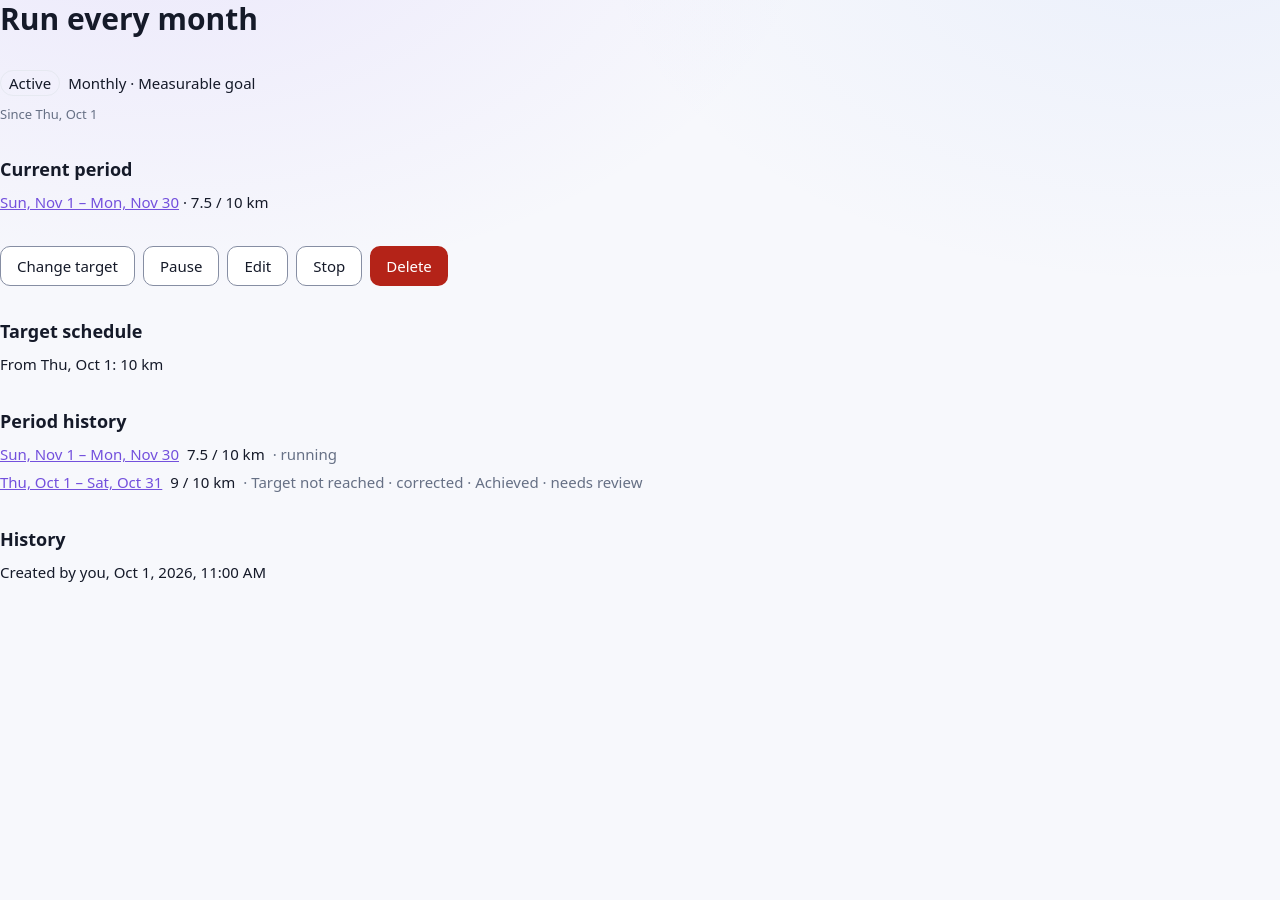
it: the series page › asks to confirm a current-period change that flips Target reached
Click the button "Change target" at (68, 266), box x1=0 y1=246 x2=135 y2=286
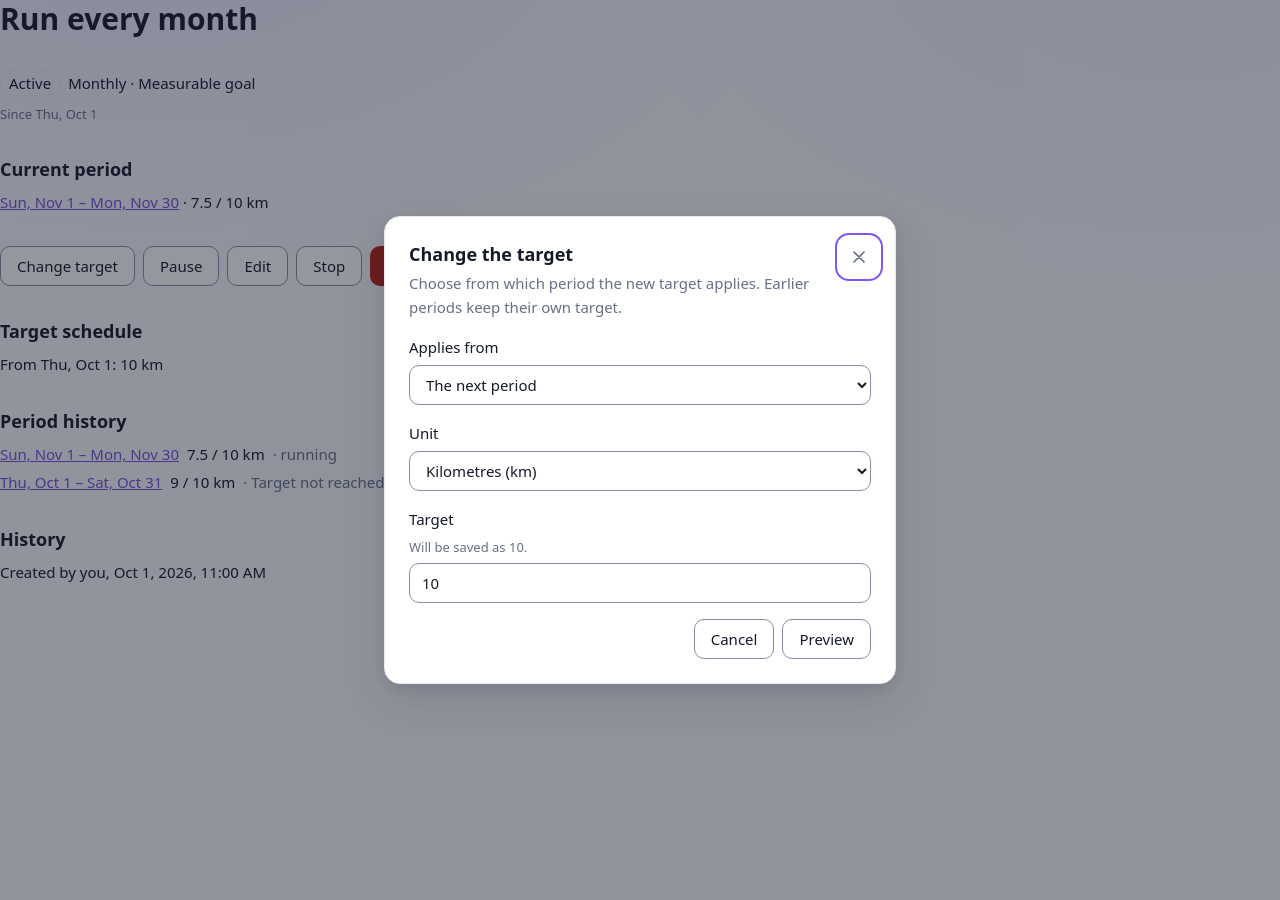
Select "The current period" in the dropdown labelled "Applies from" at (640, 385), box x1=409 y1=365 x2=871 y2=405
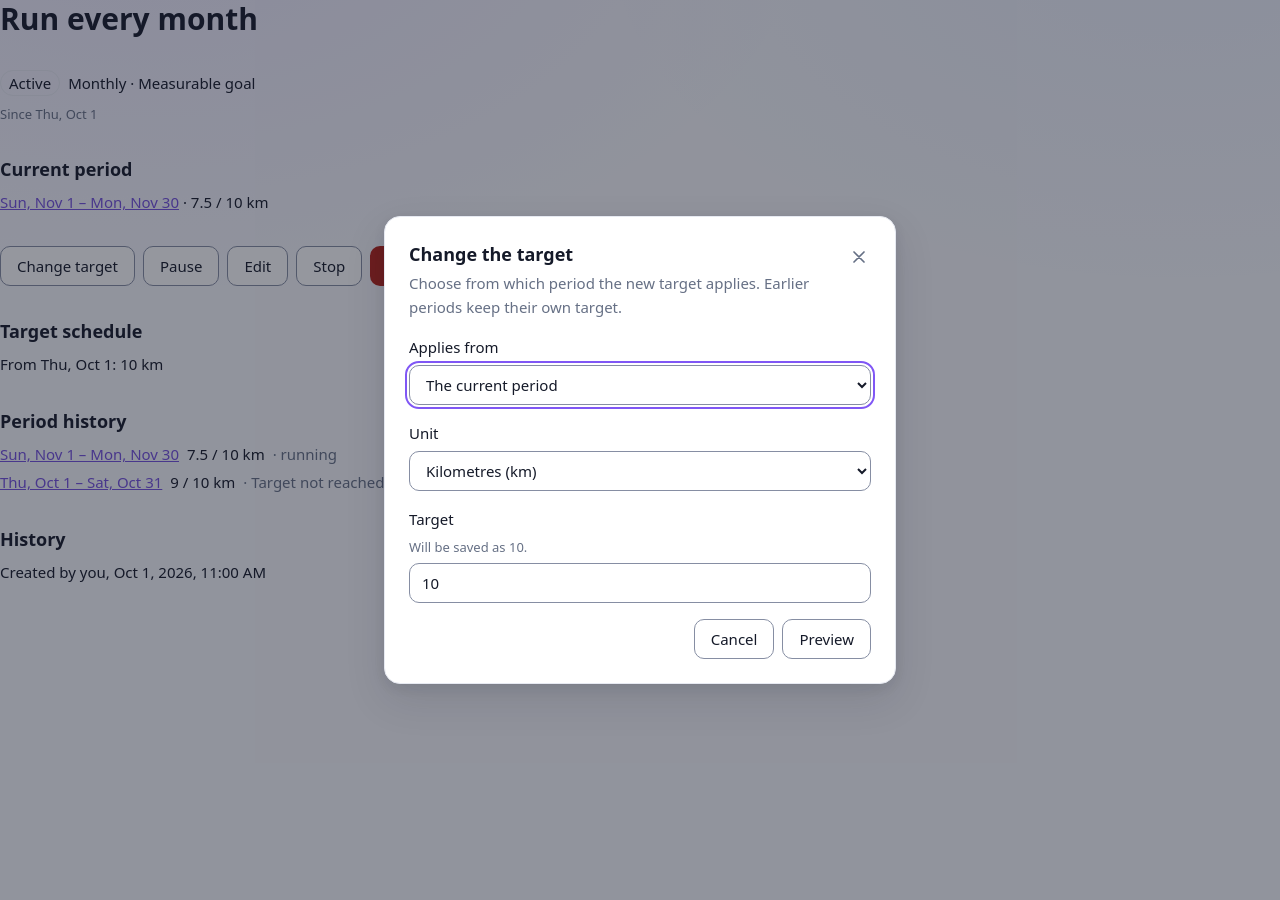
Clear the field with test id "goal-series-target-value" at (640, 583), box x1=409 y1=563 x2=871 y2=603
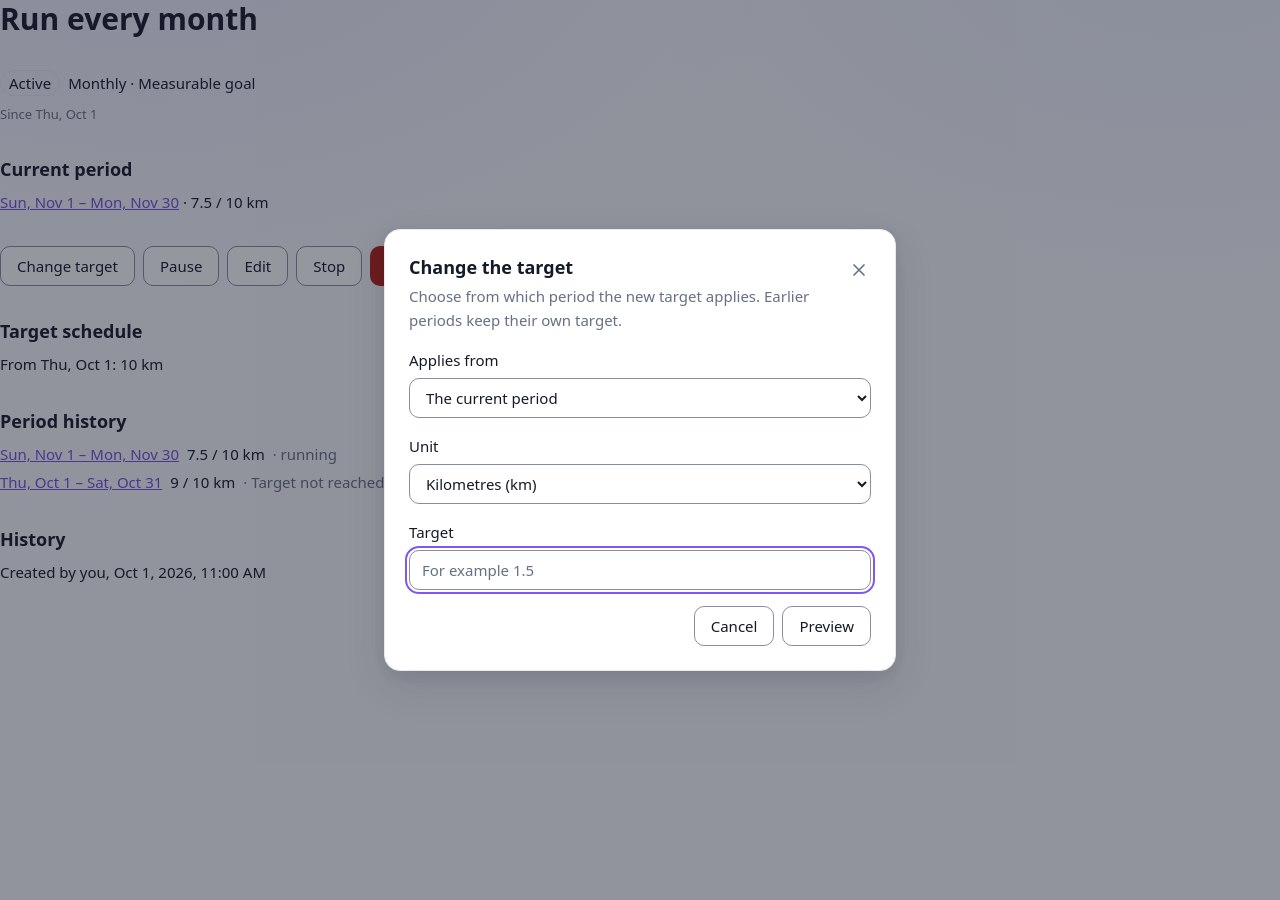
Type "7" into the field with test id "goal-series-target-value" at (640, 570), box x1=409 y1=550 x2=871 y2=590
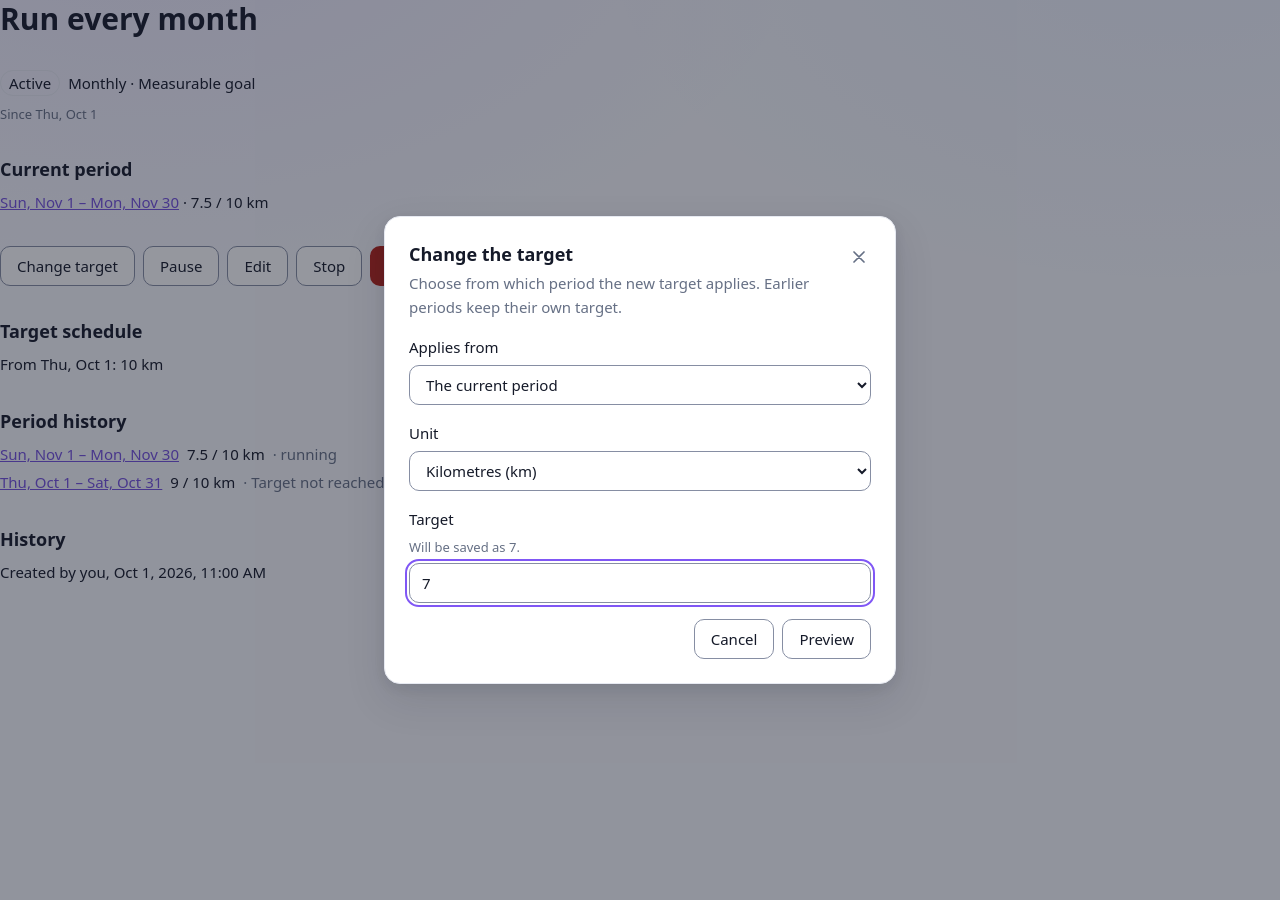
Click the button "Preview" at (827, 639), box x1=782 y1=619 x2=871 y2=659
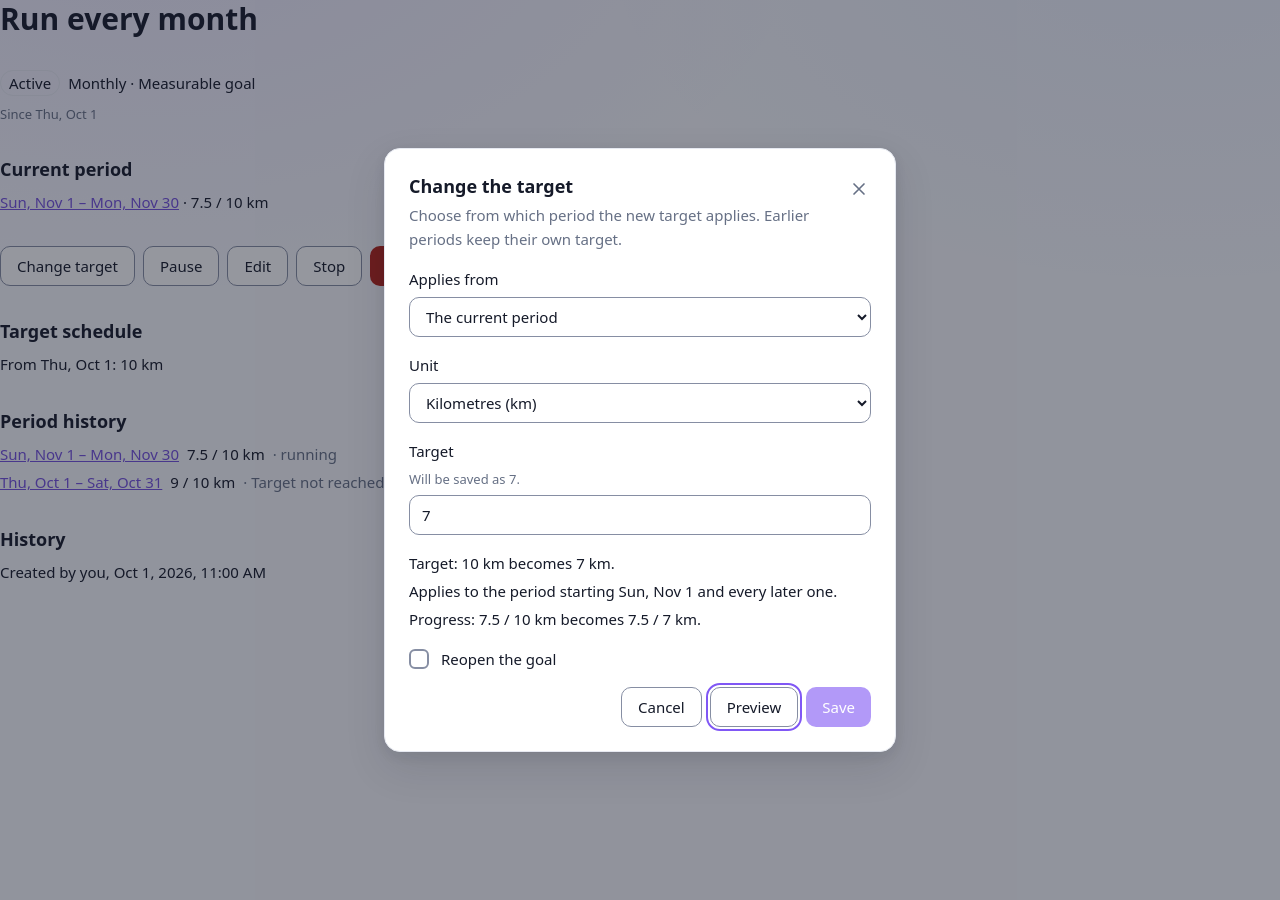
Check: the element with test id "goal-series-target-impact" shows "7.5 / 10 km", box x1=409 y1=609 x2=701 y2=629
Check: the button with test id "goal-series-target-save" is disabled, box x1=806 y1=687 x2=871 y2=727
Click the checkbox with test id "goal-series-confirm-status" at (419, 659), box x1=409 y1=649 x2=429 y2=669
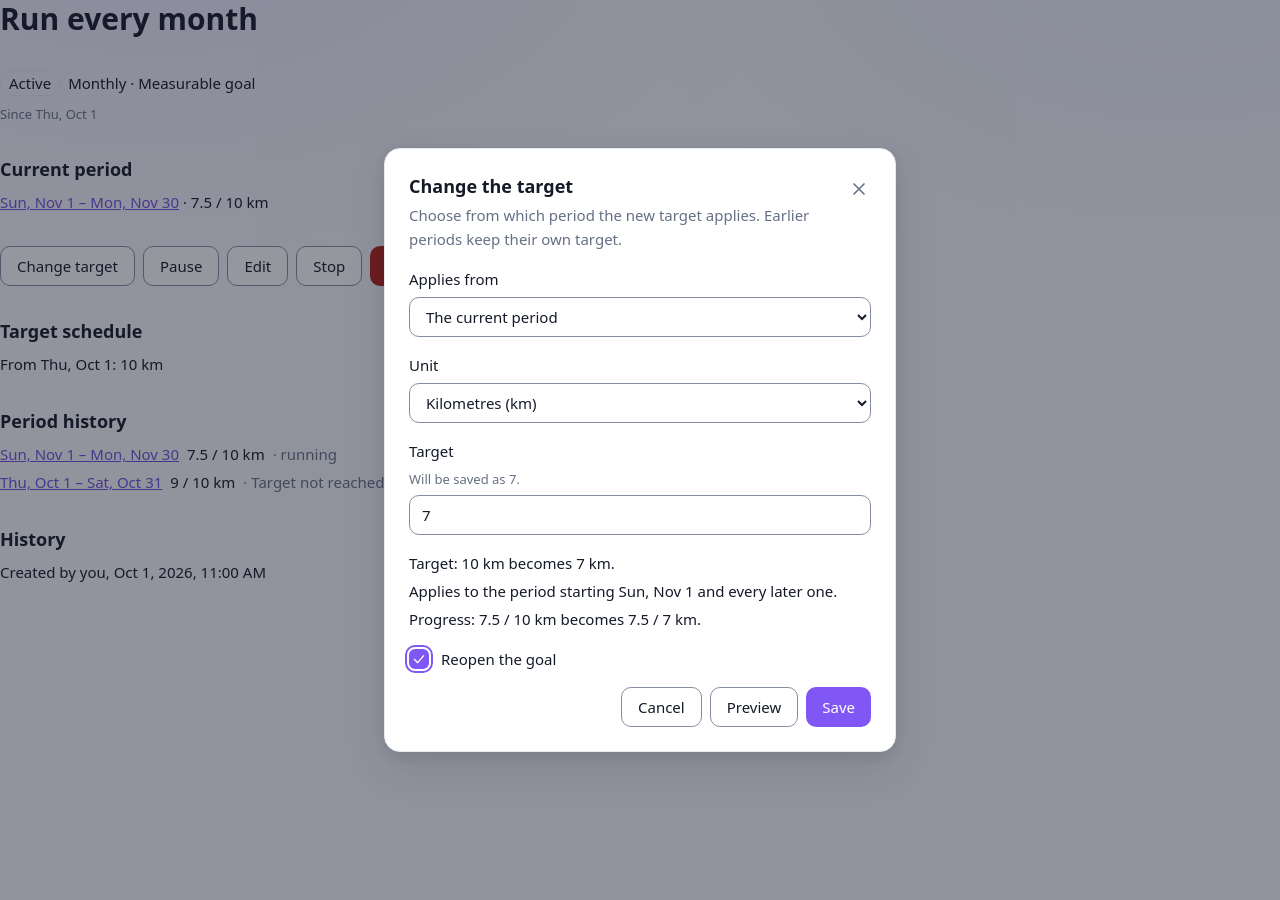
Check: the button with test id "goal-series-target-save" is enabled, box x1=806 y1=687 x2=871 y2=727
